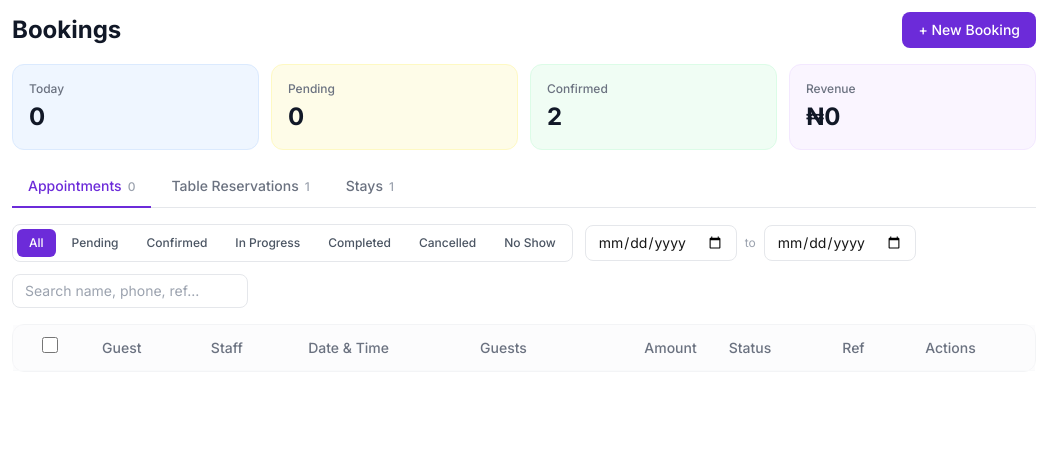
Test: #731: actual BookingsPage › handles missing or retained archived seating relations: null
Expected: the table is shown, [13,325,1035,371]
Click the button "Table Reservations1" at point(241, 187), box [155,166,326,208]
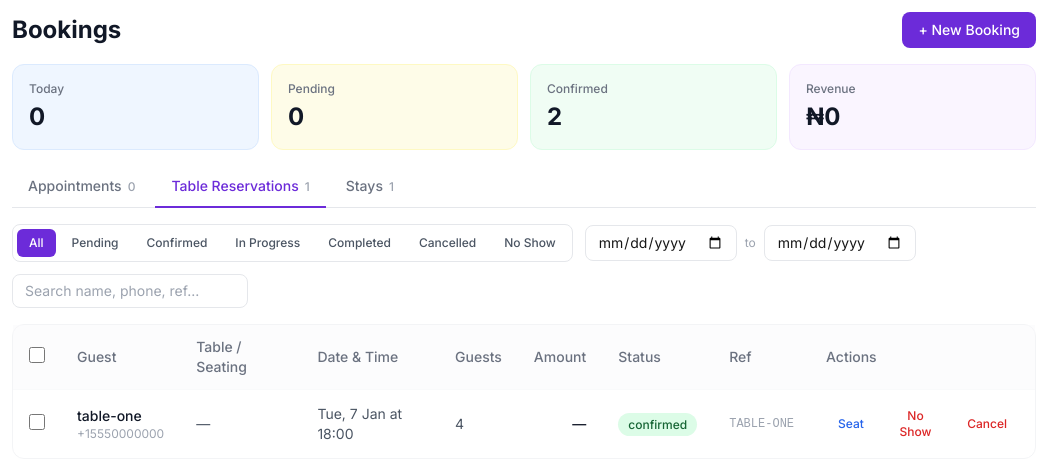
Expected: the 1st cell "—" is shown, [180,390,301,458]
Expected: the button "Seat" is shown, [826,402,876,446]
